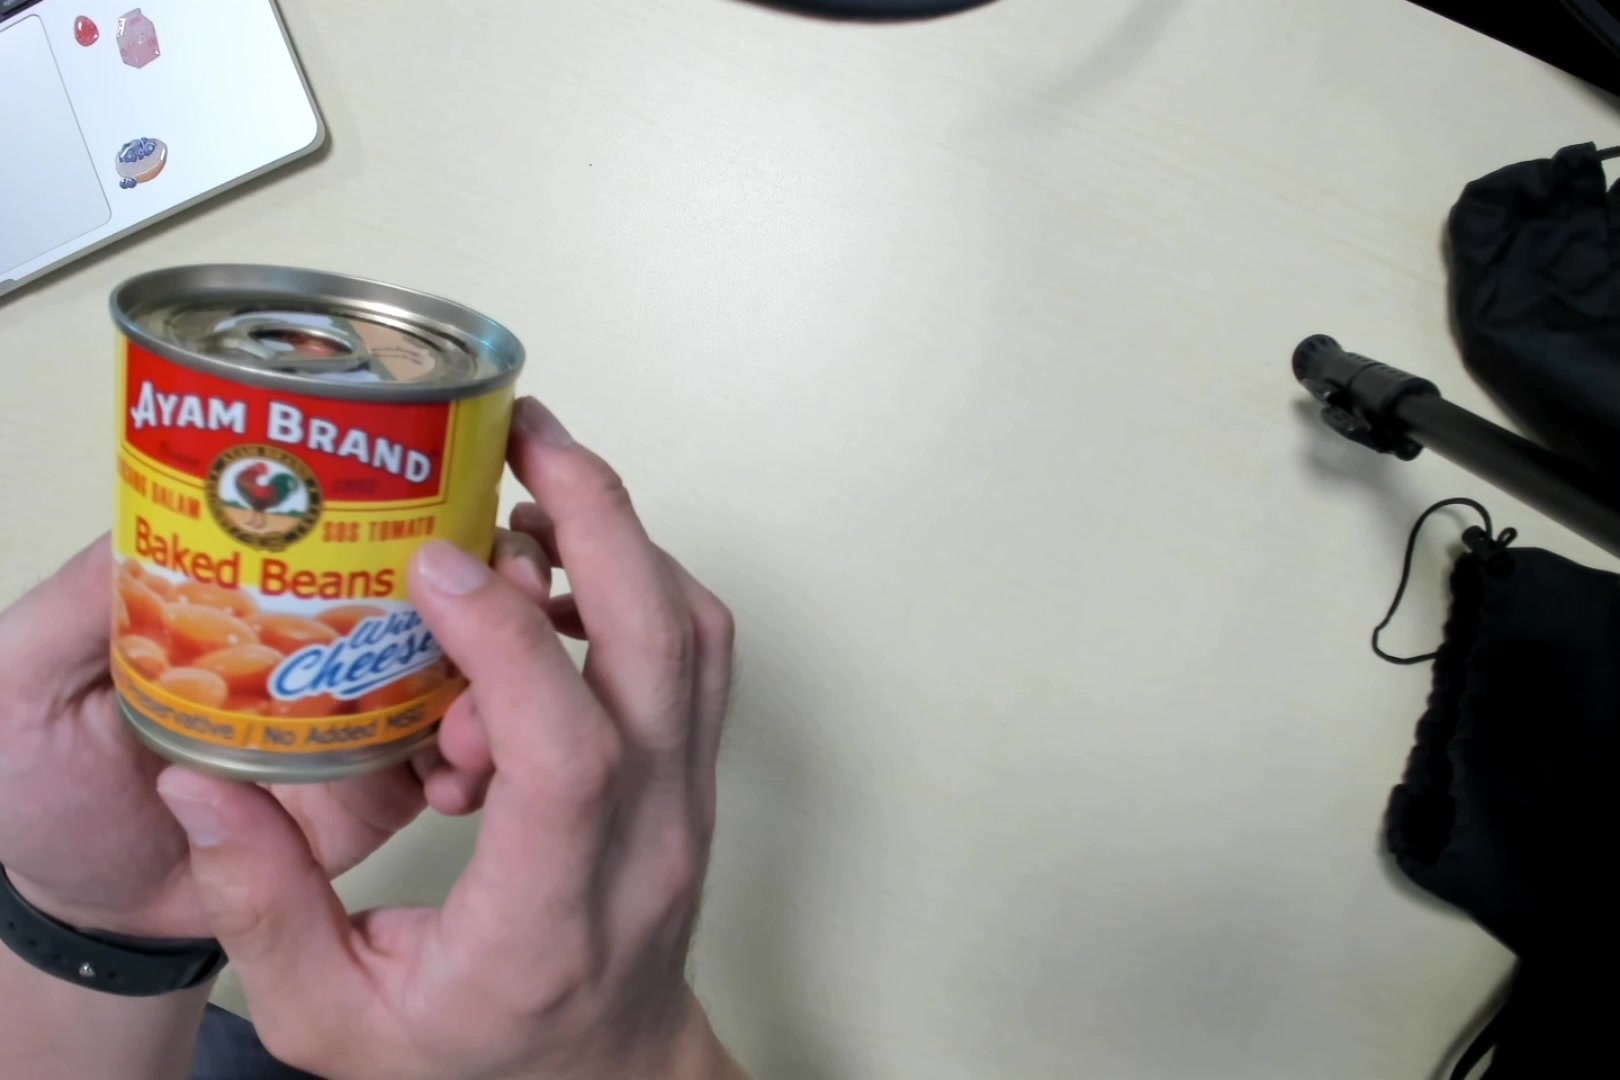CannedBakedBeans_200-299g_NonHalal_NonHealthy: (96, 263, 487, 776)
